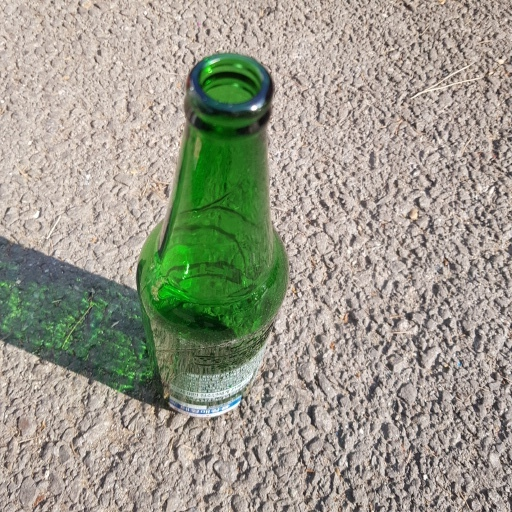Glass_1: (139, 51, 293, 422)
